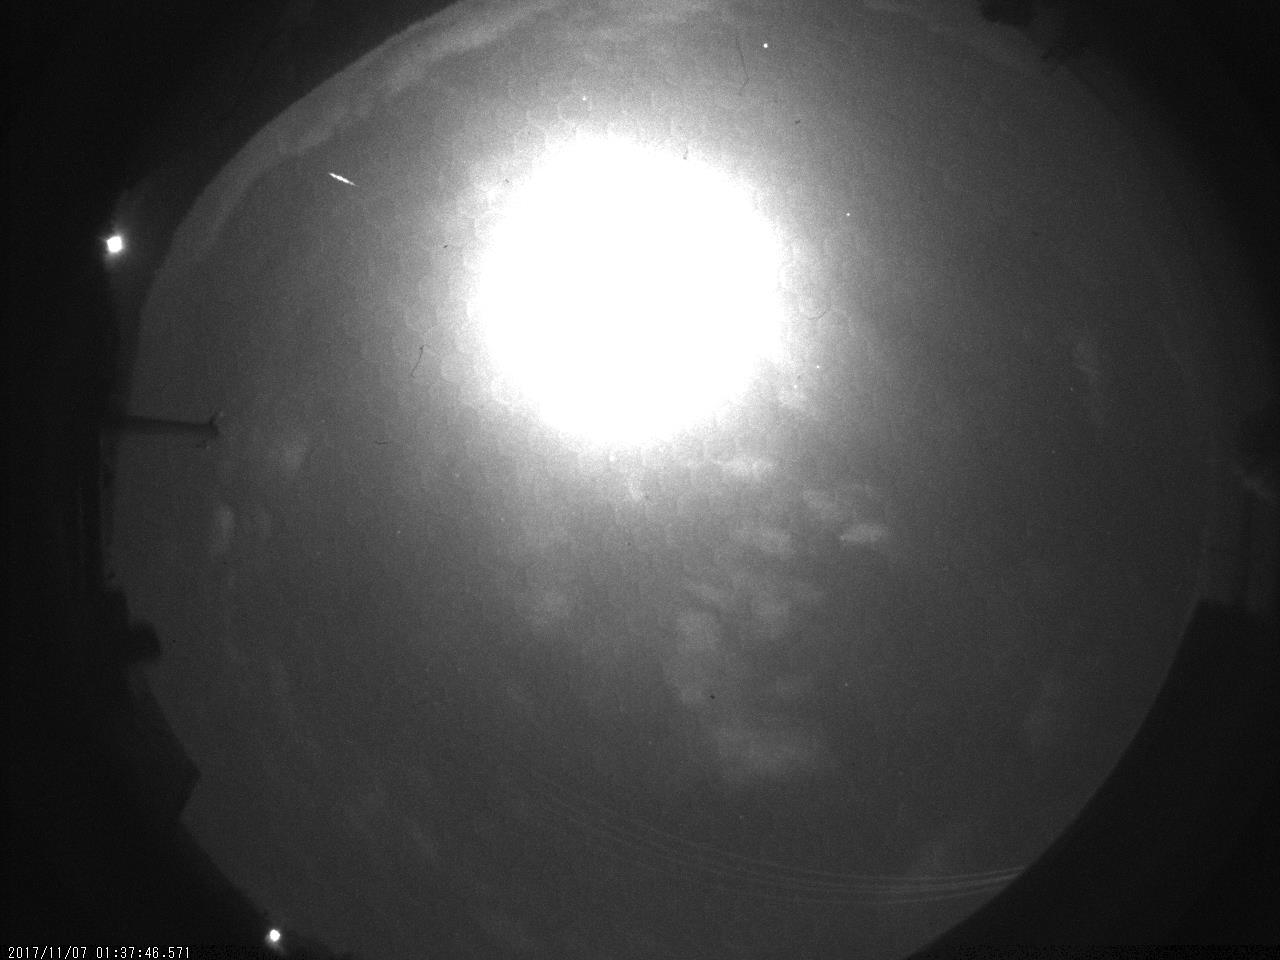meteor: (322, 164, 368, 200)
